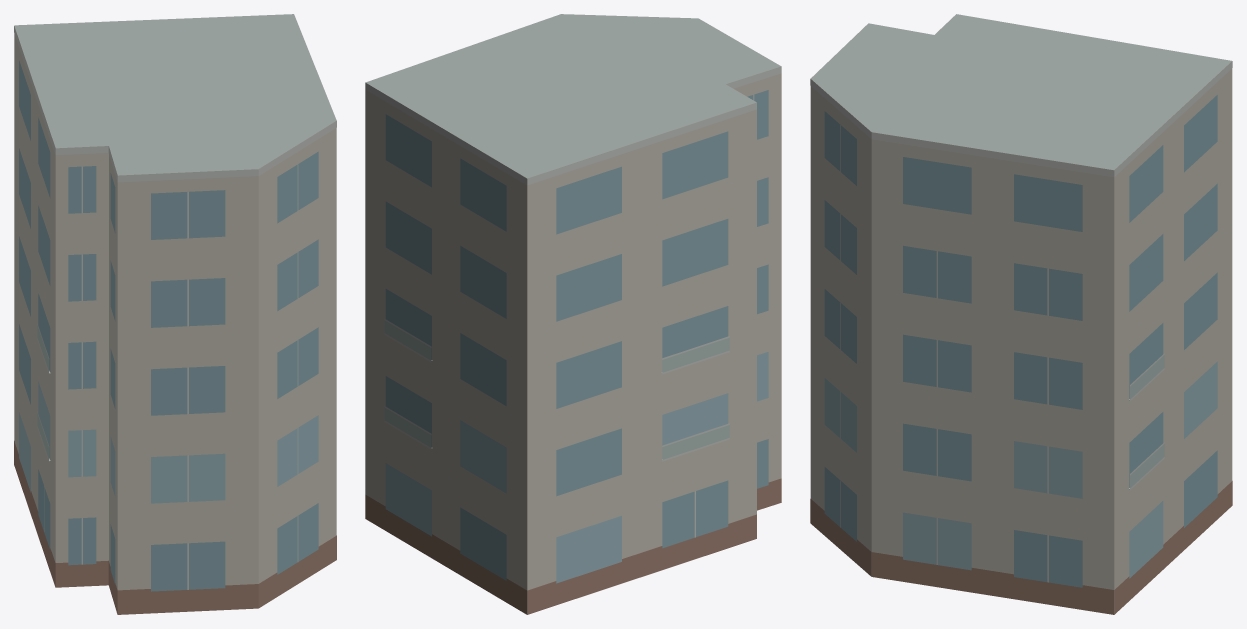
The model's file is survey-upis-32868449.glb.
3 renders of one model, left to right at view 1: azimuth 30°, elevation 25°; view 2: azimuth 150°, elevation 25°; view 3: azimuth 270°, elevation 25°, orthographic.
Parts seen in each view (by area): view 1: survey-upis-32868449.tmp; view 2: survey-upis-32868449.tmp; view 3: survey-upis-32868449.tmp.
Boxes of the visible parts, x1=… form: survey-upis-32868449.tmp: x1=14, y1=14, x2=336, y2=614; survey-upis-32868449.tmp: x1=365, y1=14, x2=781, y2=614; survey-upis-32868449.tmp: x1=810, y1=14, x2=1232, y2=614.
Bounding box in the file's own units: 11.62 × 15.4 × 13.26.
